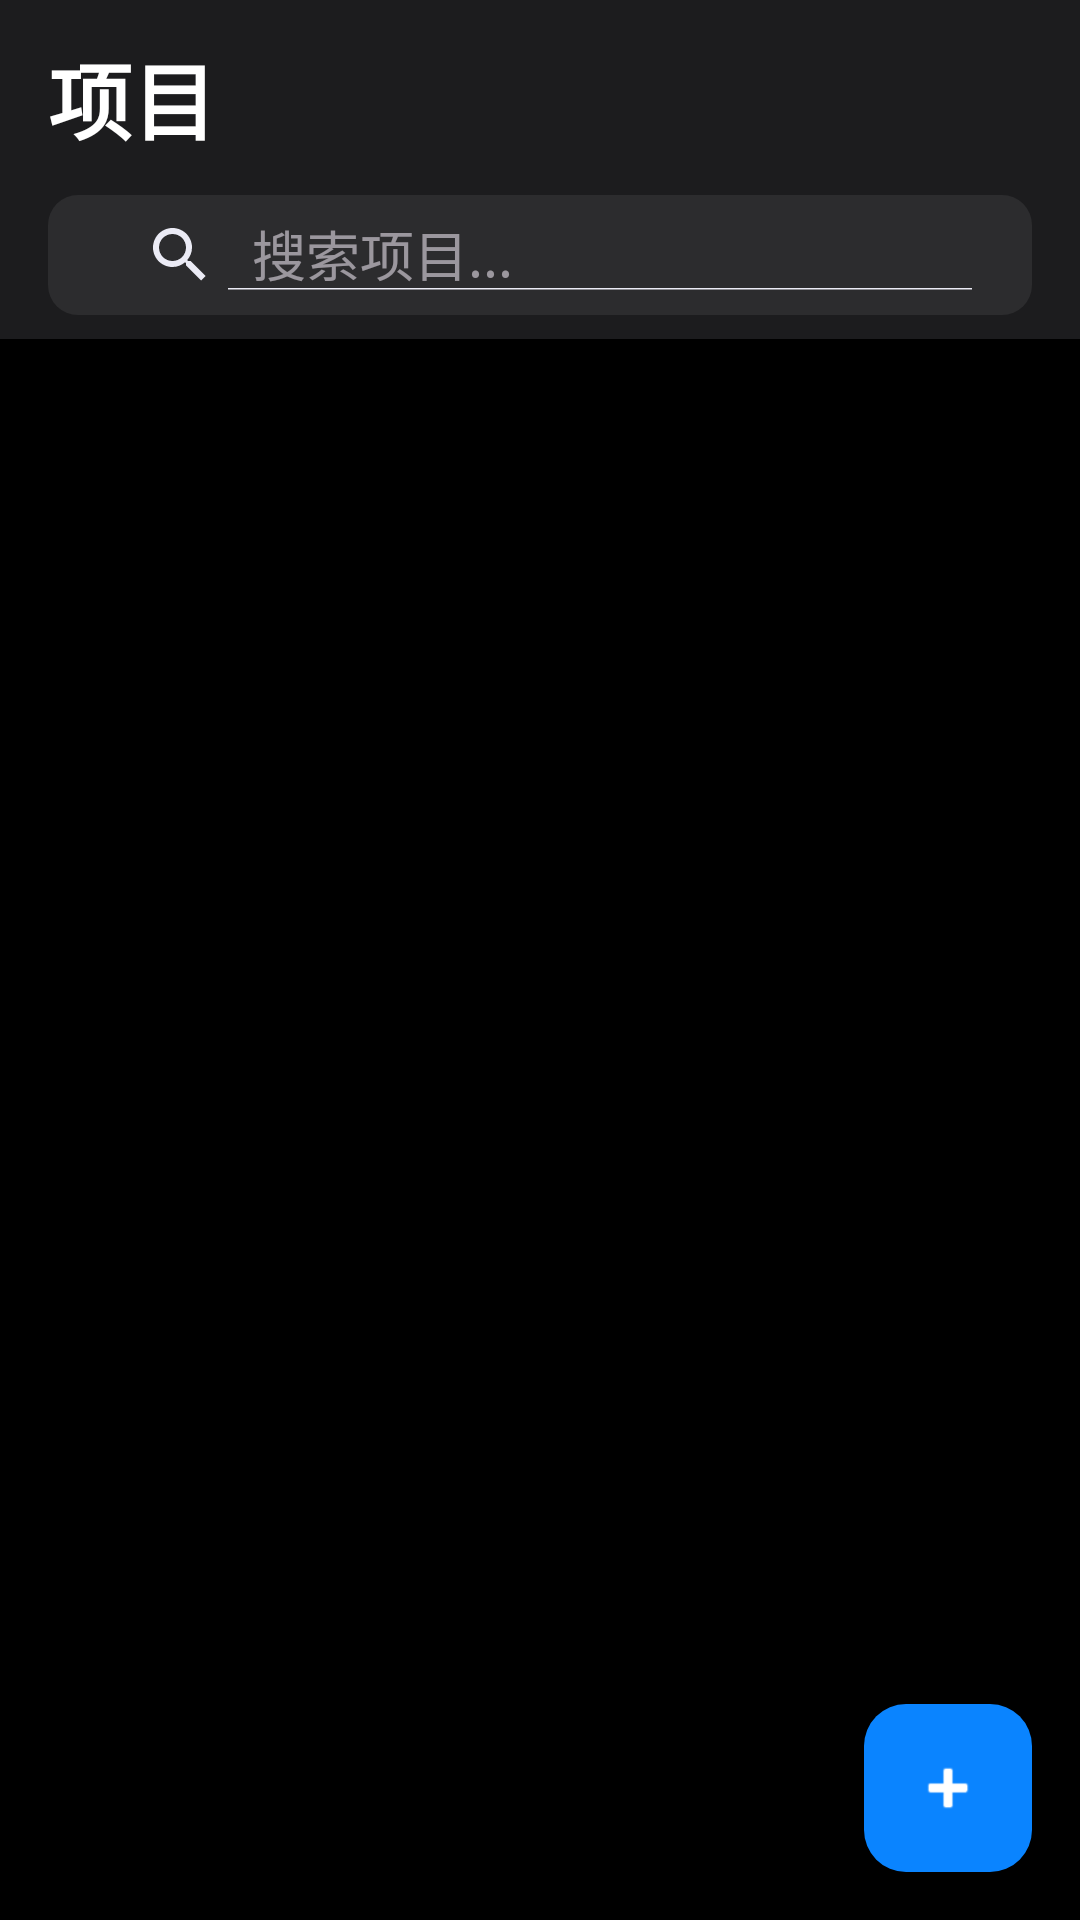

Point at icon controls on the screen. Image size 1080px×1920px, points as (x,y).
新建项目: (948,1788)
